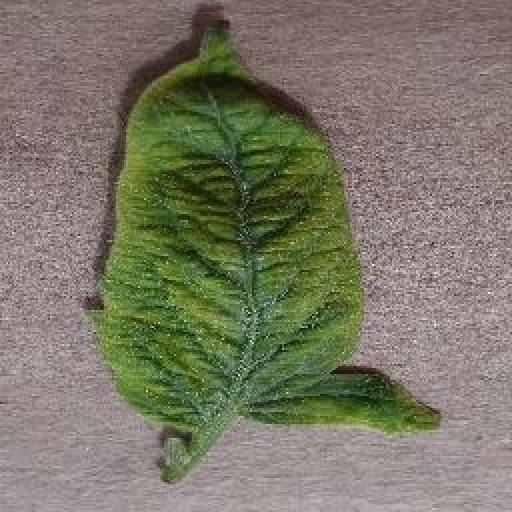disease_tomato: (81, 28, 444, 435)
